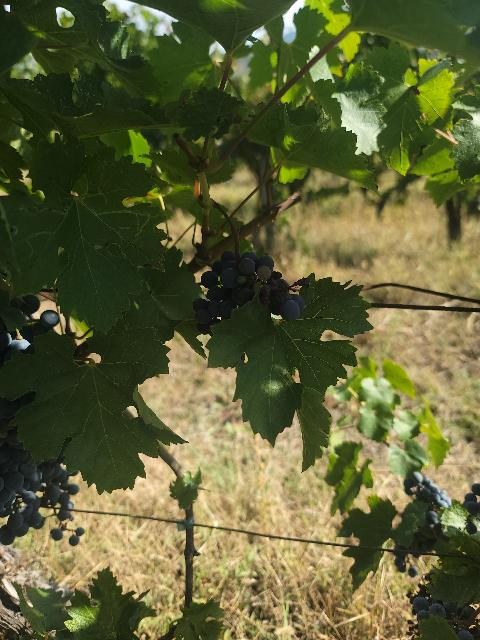grapes: (192, 250, 310, 336)
